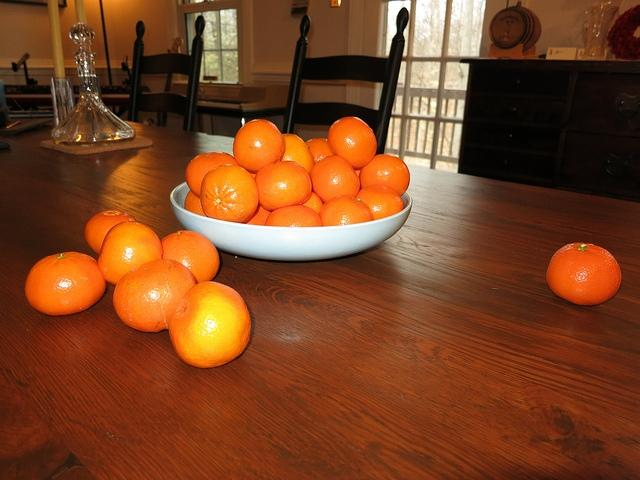orange: (168, 281, 252, 368), (112, 260, 196, 332), (25, 252, 107, 316), (544, 242, 620, 305), (98, 221, 163, 286), (200, 164, 259, 224), (160, 230, 220, 284), (232, 119, 286, 174), (254, 161, 312, 210), (327, 116, 377, 168), (309, 155, 360, 204), (186, 152, 240, 198), (84, 210, 138, 255), (358, 154, 410, 196), (318, 195, 374, 226), (356, 184, 404, 220), (280, 133, 315, 176), (264, 204, 322, 228), (305, 138, 334, 164), (243, 204, 273, 226), (184, 190, 207, 217), (300, 191, 324, 214)
